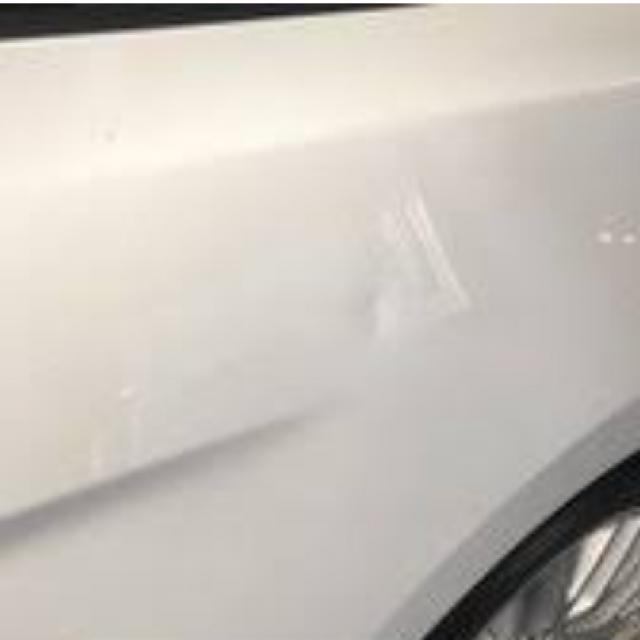dents: (326, 244, 453, 382)
